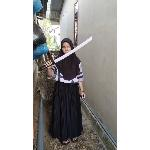Pedang: (41, 36, 97, 70)
